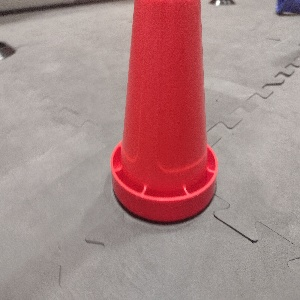Red_1: (109, 0, 219, 227)
